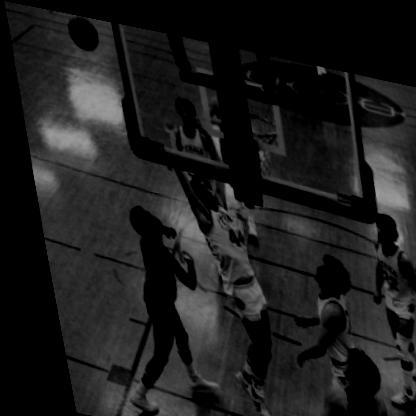basketball: (63, 10, 103, 53)
